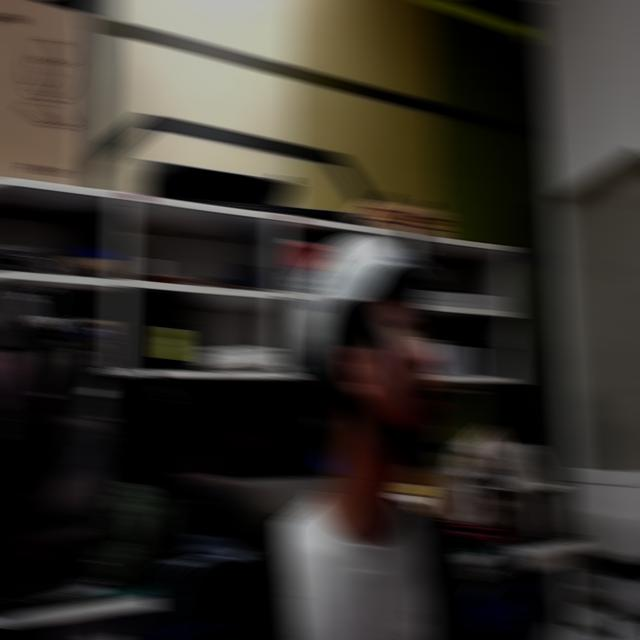With Helmet: (275, 194, 521, 572)
